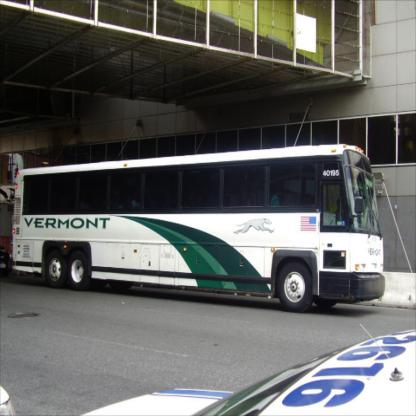Bus: (12, 152, 386, 314)
